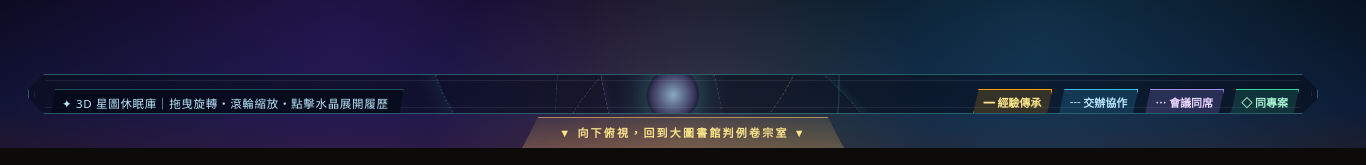
it: 星象召喚盤 › 手動推幀定位水晶與繪圖，過濾及選中只在需要時更新星圖
This screenshot has width=1366, height=165.
Later steps or results of the test are not shown.
Click the button "⋯ 會議同席". click: point(1184, 103)
box: [1144,89,1224,117]
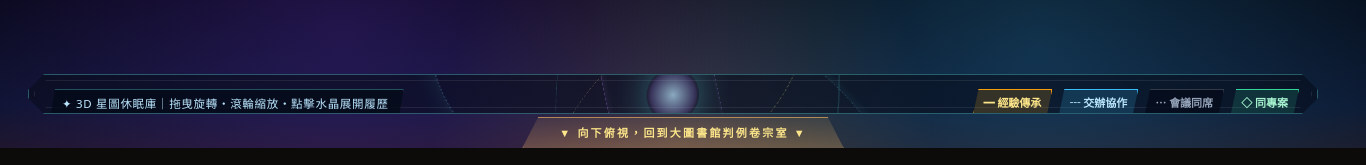
Now the button "⋯ 會議同席" is not pressed, box [1144,89,1224,114]
